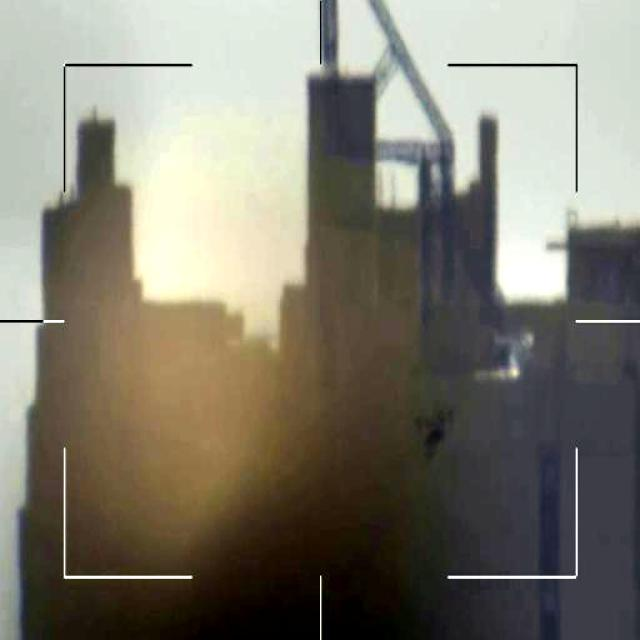bird: (409, 398, 469, 472)
